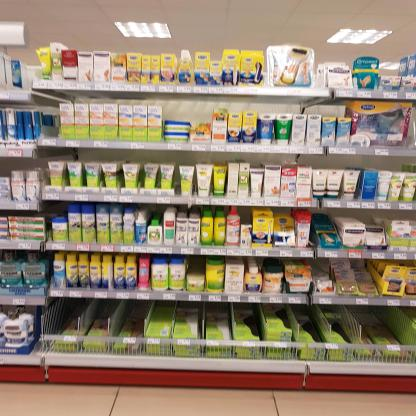Void: (164, 94, 210, 123), (359, 307, 390, 325), (47, 200, 66, 216)
